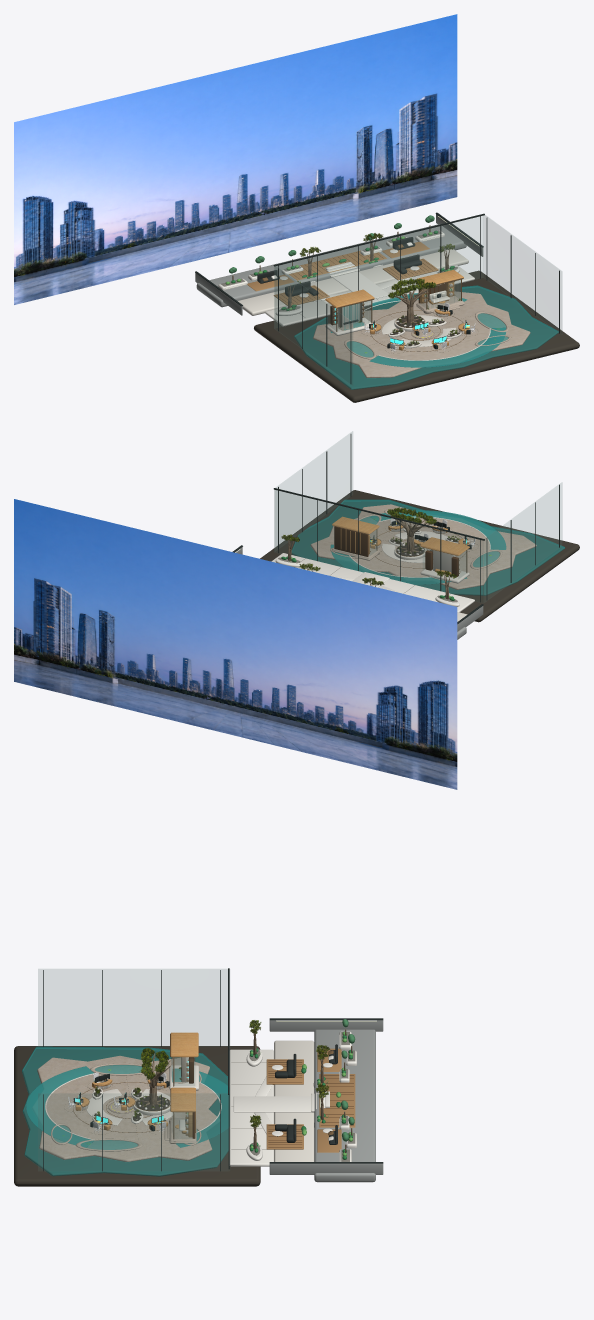
The model's file is garden-office-v10.glb.
The picture shows the model from 3 angles, top to bottom: view 1: azimuth 30°, elevation 25°; view 2: azimuth 150°, elevation 25°; view 3: azimuth 270°, elevation 25°; orthographic projection. The views are drawn at different scales.
Visible parts, largest first — view 1: V10 crisp distant city panorama, RuntimeBatch_Low_iron_architectural_glass, RuntimeBatch_Limestone_joint, RuntimeBatch_Limestone_warm, RuntimeBatch_Shallow_turquoise_water, RuntimeBatch_V9_architectural_concrete, RuntimeBatch_V8_honed_limestone, RuntimeBatch_V9_sunlit_limestone, RuntimeBatch_V9_outdoor_oak, RuntimeBatch_Graphite, RuntimeBatch_Quarter_sawn_oak, RuntimeBatch_Graphite_fabric (+5 smaller); view 2: V10 crisp distant city panorama, RuntimeBatch_Low_iron_architectural_glass, RuntimeBatch_Limestone_joint, RuntimeBatch_Shallow_turquoise_water, RuntimeBatch_Limestone_warm, RuntimeBatch_V9_sunlit_limestone, RuntimeBatch_Graphite, RuntimeBatch_Quarter_sawn_oak, RuntimeBatch_V8_honed_limestone, RuntimeBatch_Dark_oak, RuntimeBatch_Old_ficus_bark, RuntimeBatch_V9_architectural_tree_foliage (+2 smaller); view 3: RuntimeBatch_Low_iron_architectural_glass, RuntimeBatch_Limestone_joint, RuntimeBatch_Limestone_warm, RuntimeBatch_Shallow_turquoise_water, RuntimeBatch_V9_architectural_concrete, RuntimeBatch_V9_sunlit_limestone, RuntimeBatch_V8_honed_limestone, RuntimeBatch_V9_outdoor_oak, RuntimeBatch_Quarter_sawn_oak, RuntimeBatch_Graphite, RuntimeBatch_Dark_oak, RuntimeBatch_Graphite_fabric (+5 smaller).
Boxes of the visible parts, x1,y1,x2,y2 form: V10 crisp distant city panorama: [14, 14, 457, 304]; RuntimeBatch_Low_iron_architectural_glass: [274, 215, 562, 385]; RuntimeBatch_Limestone_joint: [254, 270, 579, 402]; RuntimeBatch_Limestone_warm: [313, 291, 530, 377]; RuntimeBatch_Shallow_turquoise_water: [294, 285, 558, 389]; RuntimeBatch_V9_architectural_concrete: [195, 214, 483, 315]; RuntimeBatch_V8_honed_limestone: [238, 249, 490, 360]; RuntimeBatch_V9_sunlit_limestone: [218, 230, 474, 326]; RuntimeBatch_V9_outdoor_oak: [247, 242, 438, 305]; RuntimeBatch_Graphite: [195, 212, 559, 383]; RuntimeBatch_Quarter_sawn_oak: [325, 269, 469, 350]; RuntimeBatch_Graphite_fabric: [257, 237, 463, 328]; V10 crisp distant city panorama: [14, 499, 457, 789]; RuntimeBatch_Low_iron_architectural_glass: [274, 431, 562, 602]; RuntimeBatch_Limestone_joint: [260, 490, 579, 622]; RuntimeBatch_Shallow_turquoise_water: [291, 499, 564, 595]; RuntimeBatch_Limestone_warm: [310, 504, 536, 589]; RuntimeBatch_V9_sunlit_limestone: [271, 553, 474, 612]; RuntimeBatch_Graphite: [232, 434, 559, 624]; RuntimeBatch_Quarter_sawn_oak: [332, 516, 469, 574]; RuntimeBatch_V8_honed_limestone: [349, 516, 490, 621]; RuntimeBatch_Dark_oak: [334, 526, 458, 576]; RuntimeBatch_Old_ficus_bark: [288, 513, 450, 599]; RuntimeBatch_V9_architectural_tree_foliage: [387, 507, 436, 553]; RuntimeBatch_Low_iron_architectural_glass: [38, 969, 229, 1170]; RuntimeBatch_Limestone_joint: [14, 1046, 260, 1186]; RuntimeBatch_Limestone_warm: [37, 1055, 217, 1161]; RuntimeBatch_Shallow_turquoise_water: [22, 1046, 229, 1176]; RuntimeBatch_V9_architectural_concrete: [269, 1020, 383, 1182]; RuntimeBatch_V9_sunlit_limestone: [229, 1031, 356, 1166]; RuntimeBatch_V8_honed_limestone: [45, 1040, 314, 1161]; RuntimeBatch_V9_outdoor_oak: [266, 1048, 355, 1152]; RuntimeBatch_Quarter_sawn_oak: [75, 1032, 198, 1137]; RuntimeBatch_Graphite: [43, 968, 383, 1171]; RuntimeBatch_Dark_oak: [83, 1057, 353, 1147]; RuntimeBatch_Graphite_fabric: [81, 1044, 337, 1144].
Size of the model in its own units: 72 by 28.4 by 65.2.
31 materials, 6 textured.
